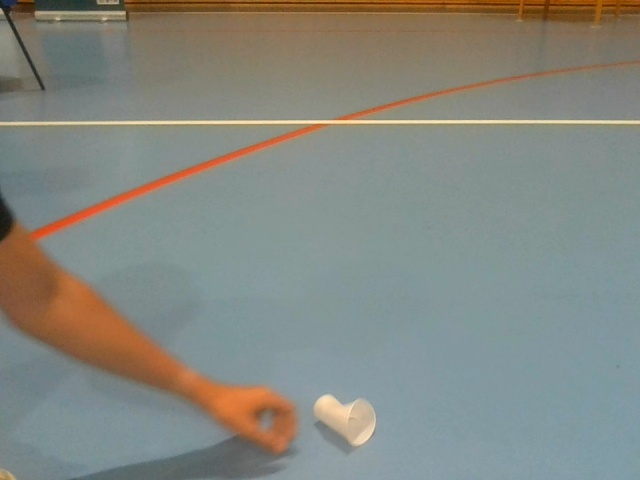plasticcup: (312, 392, 376, 446)
